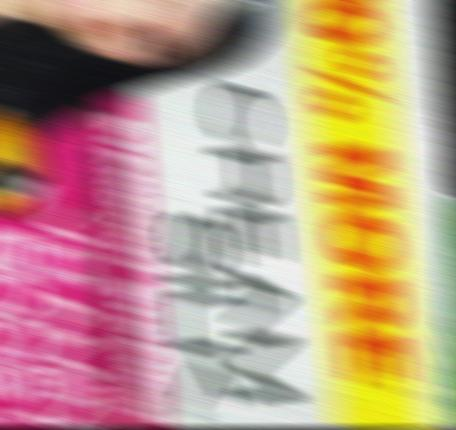creamsilk: (0, 0, 456, 430)
pancit canton calamansi: (442, 185, 456, 430)
pillows: (442, 426, 456, 430)
